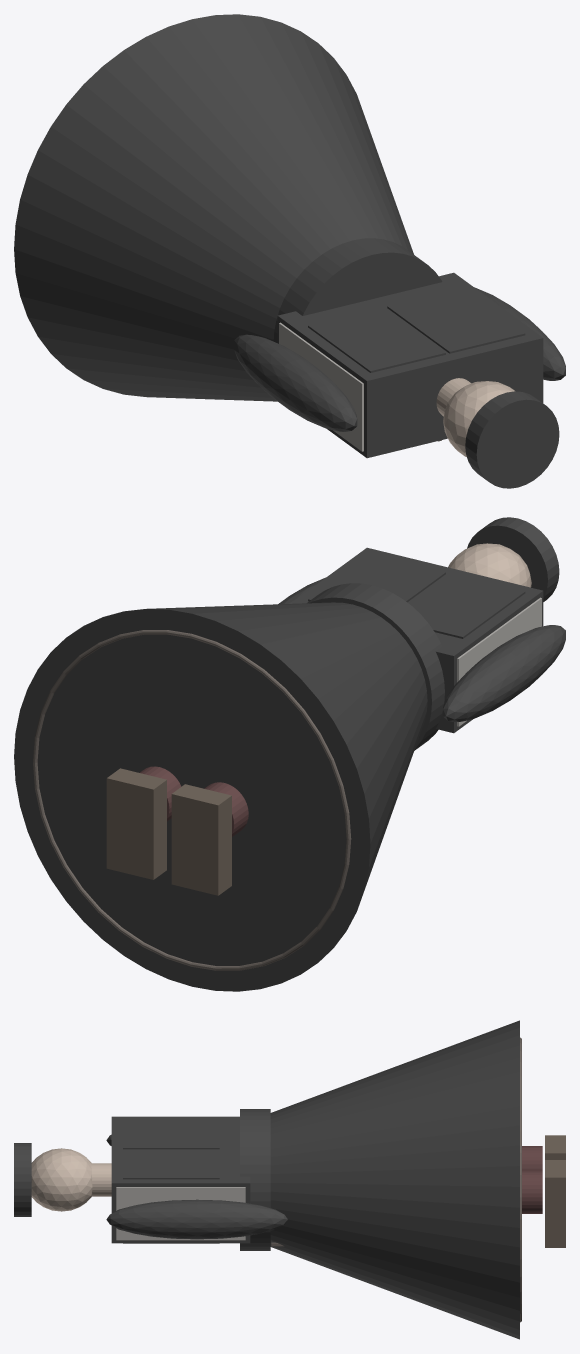
Rendered from MASTER_025_STAGE3_DETAIL.glb.
3 views of the same model, one above another, from view 1: azimuth 30°, elevation 25°; view 2: azimuth 150°, elevation 25°; view 3: azimuth 270°, elevation 25° (orthographic). The views are drawn at different scales.
Parts seen in each view (by area): view 1: slot_lower_main__fund_i_gjatë, slot_upper_inner__këmishë, slot_waist__brez, slot_headwear__mbulesë_koke, slot_upper_inner_sleeve_L, slot_upper_outer__jelek/xhamadan_R, slot_upper_outer__jelek/xhamadan_L, mannequin_torso, mannequin_head, slot_upper_inner_sleeve_R; view 2: slot_lower_main__fund_i_gjatë, slot_footwear__opinga_R, slot_footwear__opinga_L, slot_upper_inner_sleeve_L, detail_skirt_hem, slot_waist__brez, slot_upper_inner__këmishë, slot_upper_outer__jelek/xhamadan_L, slot_headwear__mbulesë_koke, slot_upper_outer__jelek/xhamadan_R, mannequin_head, mannequin_torso (+2 smaller); view 3: slot_lower_main__fund_i_gjatë, slot_upper_inner_sleeve_R, slot_upper_inner__këmishë, mannequin_head, slot_waist__brez, slot_upper_outer__jelek/xhamadan_R, slot_upper_outer__jelek/xhamadan_L, mannequin_torso, slot_footwear__opinga_R, slot_headwear__mbulesë_koke, slot_legwear__çorape_R, mannequin_neck (+3 smaller).
Part boxes in pixels (<box>): slot_lower_main__fund_i_gjatë: <box>14,14,413,401</box>; slot_upper_inner__këmishë: <box>277,272,543,458</box>; slot_waist__brez: <box>273,238,442,342</box>; slot_headwear__mbulesë_koke: <box>465,391,559,488</box>; slot_upper_inner_sleeve_L: <box>234,334,357,431</box>; slot_upper_outer__jelek/xhamadan_R: <box>387,288,525,353</box>; slot_upper_outer__jelek/xhamadan_L: <box>308,307,445,372</box>; mannequin_torso: <box>279,322,363,451</box>; mannequin_head: <box>443,381,514,456</box>; slot_upper_inner_sleeve_R: <box>474,287,565,380</box>; slot_lower_main__fund_i_gjatë: <box>14,602,427,991</box>; slot_footwear__opinga_R: <box>106,768,166,879</box>; slot_footwear__opinga_L: <box>171,784,231,895</box>; slot_upper_inner_sleeve_L: <box>443,625,565,722</box>; detail_skirt_hem: <box>33,630,351,970</box>; slot_waist__brez: <box>307,583,444,750</box>; slot_upper_inner__këmishë: <box>290,547,543,733</box>; slot_upper_outer__jelek/xhamadan_L: <box>408,573,525,638</box>; slot_headwear__mbulesë_koke: <box>467,517,559,601</box>; slot_upper_outer__jelek/xhamadan_R: <box>308,553,445,602</box>; mannequin_head: <box>448,543,531,587</box>; mannequin_torso: <box>457,597,541,726</box>; slot_lower_main__fund_i_gjatë: <box>270,1020,519,1339</box>; slot_upper_inner_sleeve_R: <box>106,1199,287,1239</box>; slot_upper_inner__këmishë: <box>111,1116,250,1243</box>; mannequin_head: <box>31,1148,92,1211</box>; slot_waist__brez: <box>240,1109,270,1250</box>; slot_upper_outer__jelek/xhamadan_R: <box>123,1149,219,1243</box>; slot_upper_outer__jelek/xhamadan_L: <box>123,1119,219,1149</box>; mannequin_torso: <box>116,1187,245,1240</box>; slot_footwear__opinga_R: <box>545,1160,565,1247</box>; slot_headwear__mbulesë_koke: <box>14,1143,31,1216</box>; slot_legwear__çorape_R: <box>522,1170,542,1213</box>; mannequin_neck: <box>91,1163,111,1196</box>.
Size of the model in its own units: 0.9901 by 0.9901 by 1.71.
